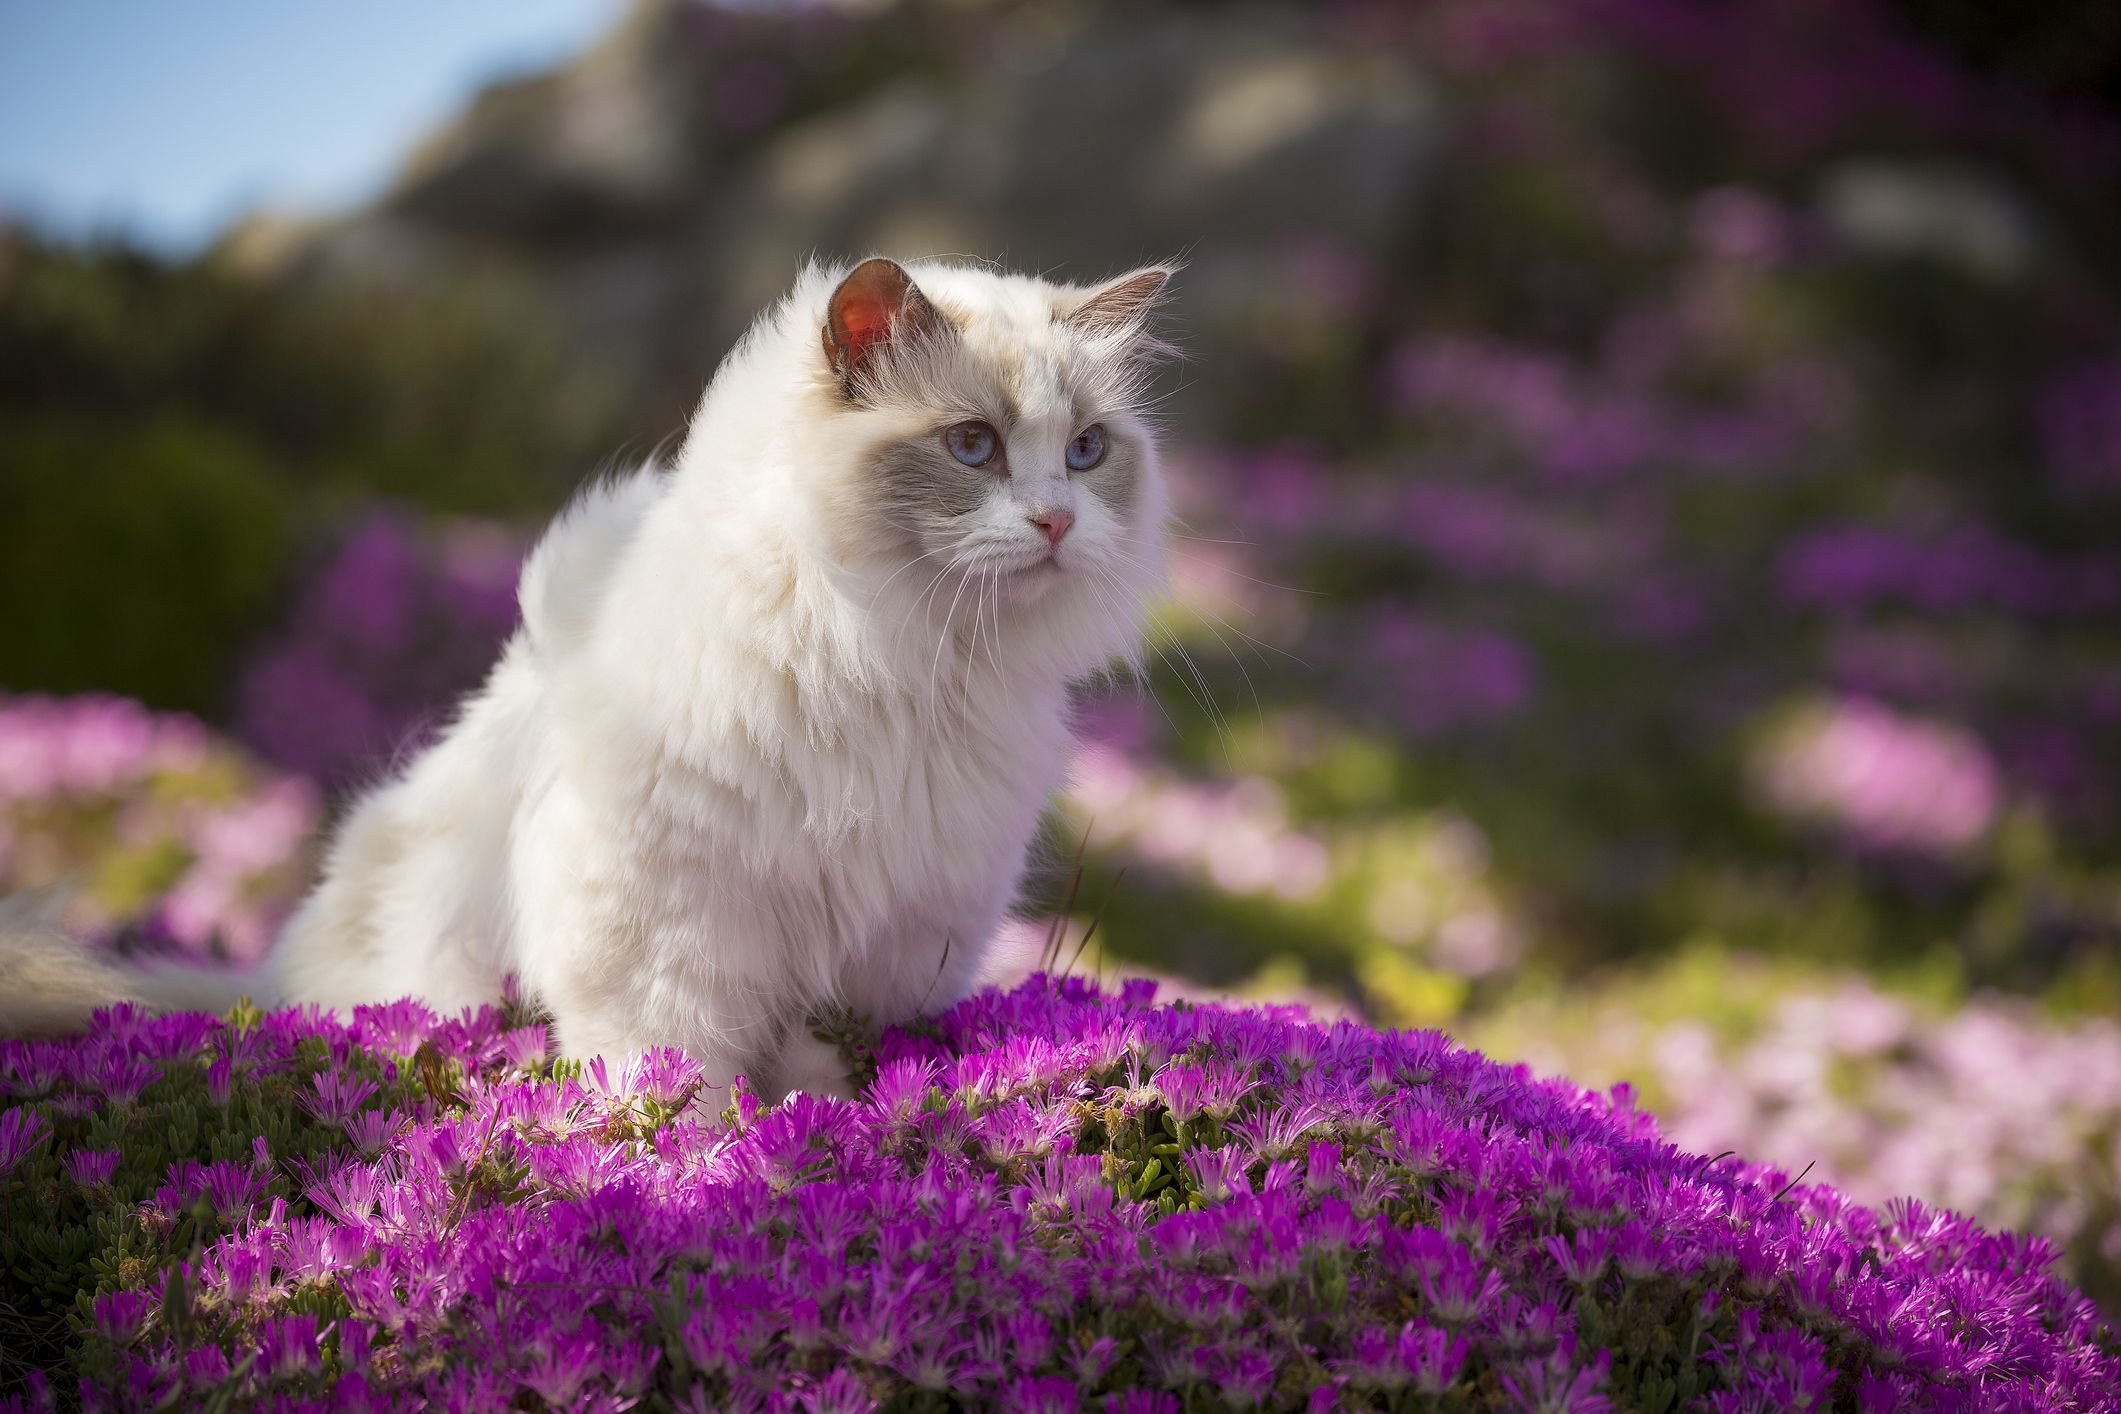cat: (358, 238, 1225, 1083)
